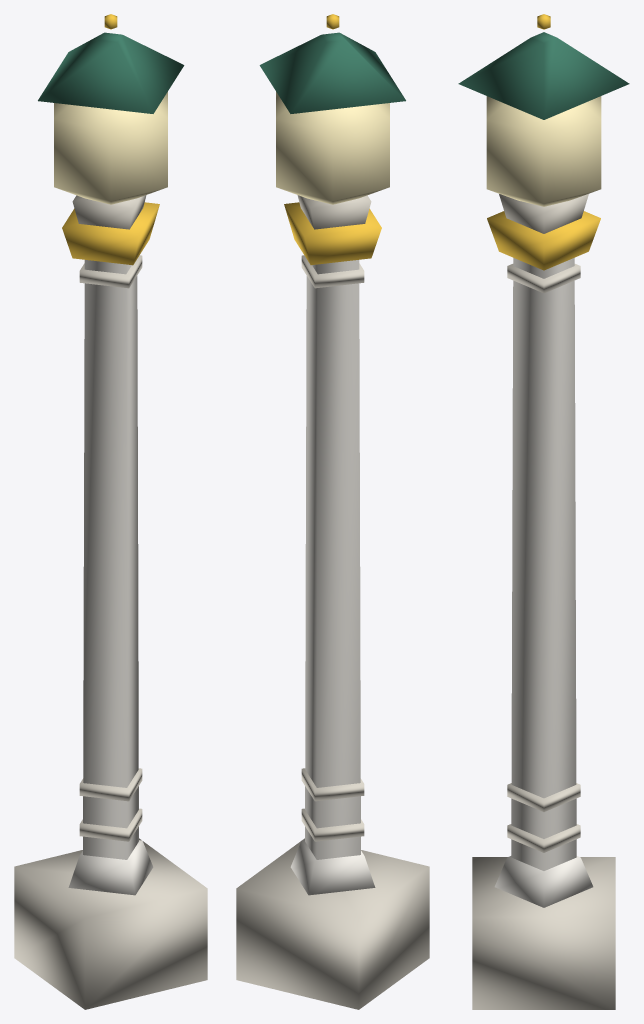
The model's file is lamp_grand_a_low.glb.
3 renders of one model, left to right at view 1: azimuth 30°, elevation 25°; view 2: azimuth 150°, elevation 25°; view 3: azimuth 270°, elevation 25°, orthographic.
Size of the model in its own units: 0.84 by 5.21 by 0.84.
